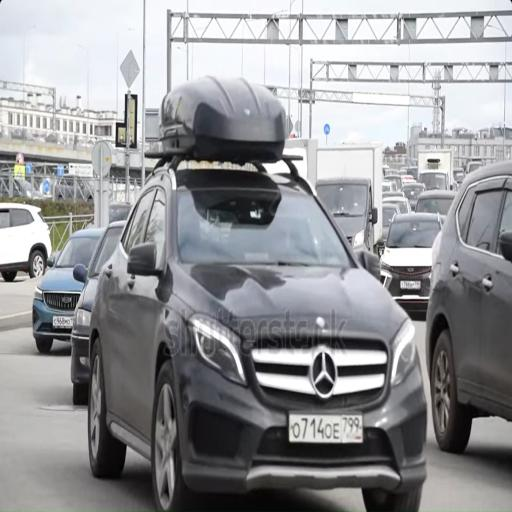License plates: (289, 414, 363, 443), (52, 316, 73, 329), (401, 281, 420, 289), (379, 248, 383, 256)
